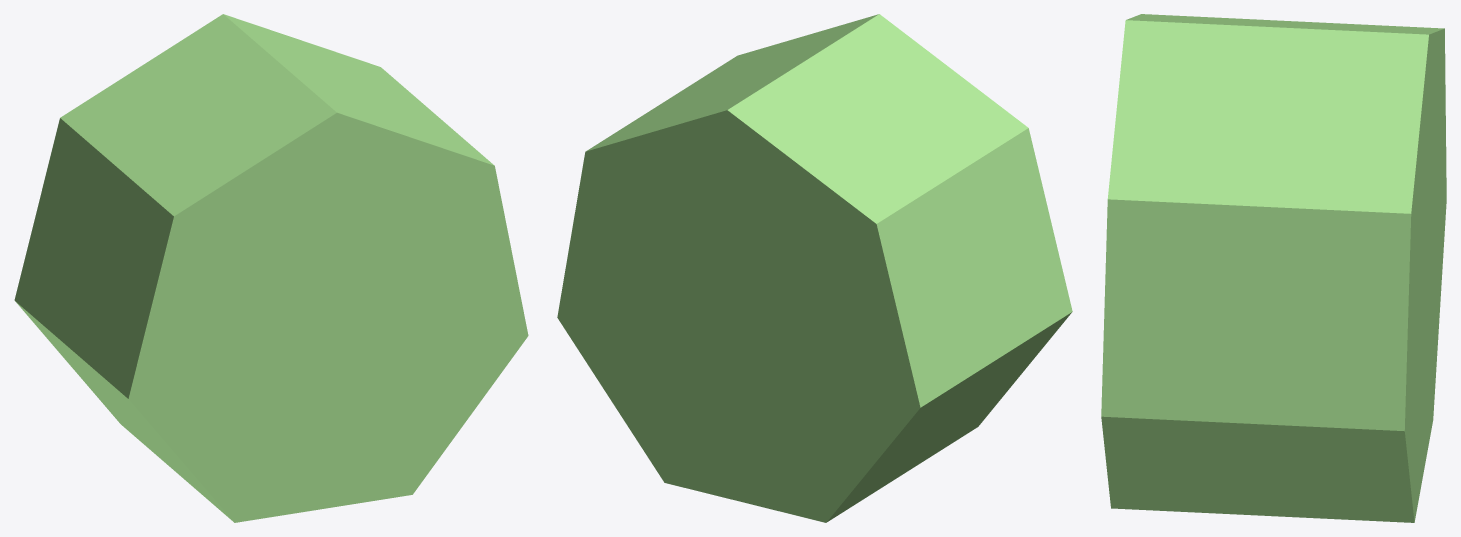
Rendered from scrap_hipwheel.fbx.
3 renders of one model, left to right at view 1: azimuth 30°, elevation 25°; view 2: azimuth 150°, elevation 25°; view 3: azimuth 270°, elevation 25°, orthographic. The views are drawn at different scales.
Parts seen in each view (by area): view 1: knee_r; view 2: knee_r; view 3: knee_r.
Part boxes in pixels (x1=…): knee_r: x1=14, y1=14, x2=528, y2=522; knee_r: x1=557, y1=14, x2=1072, y2=522; knee_r: x1=1101, y1=14, x2=1446, y2=522.
Size of the model in its own units: 0.6931 by 0.6574 by 0.4537.
